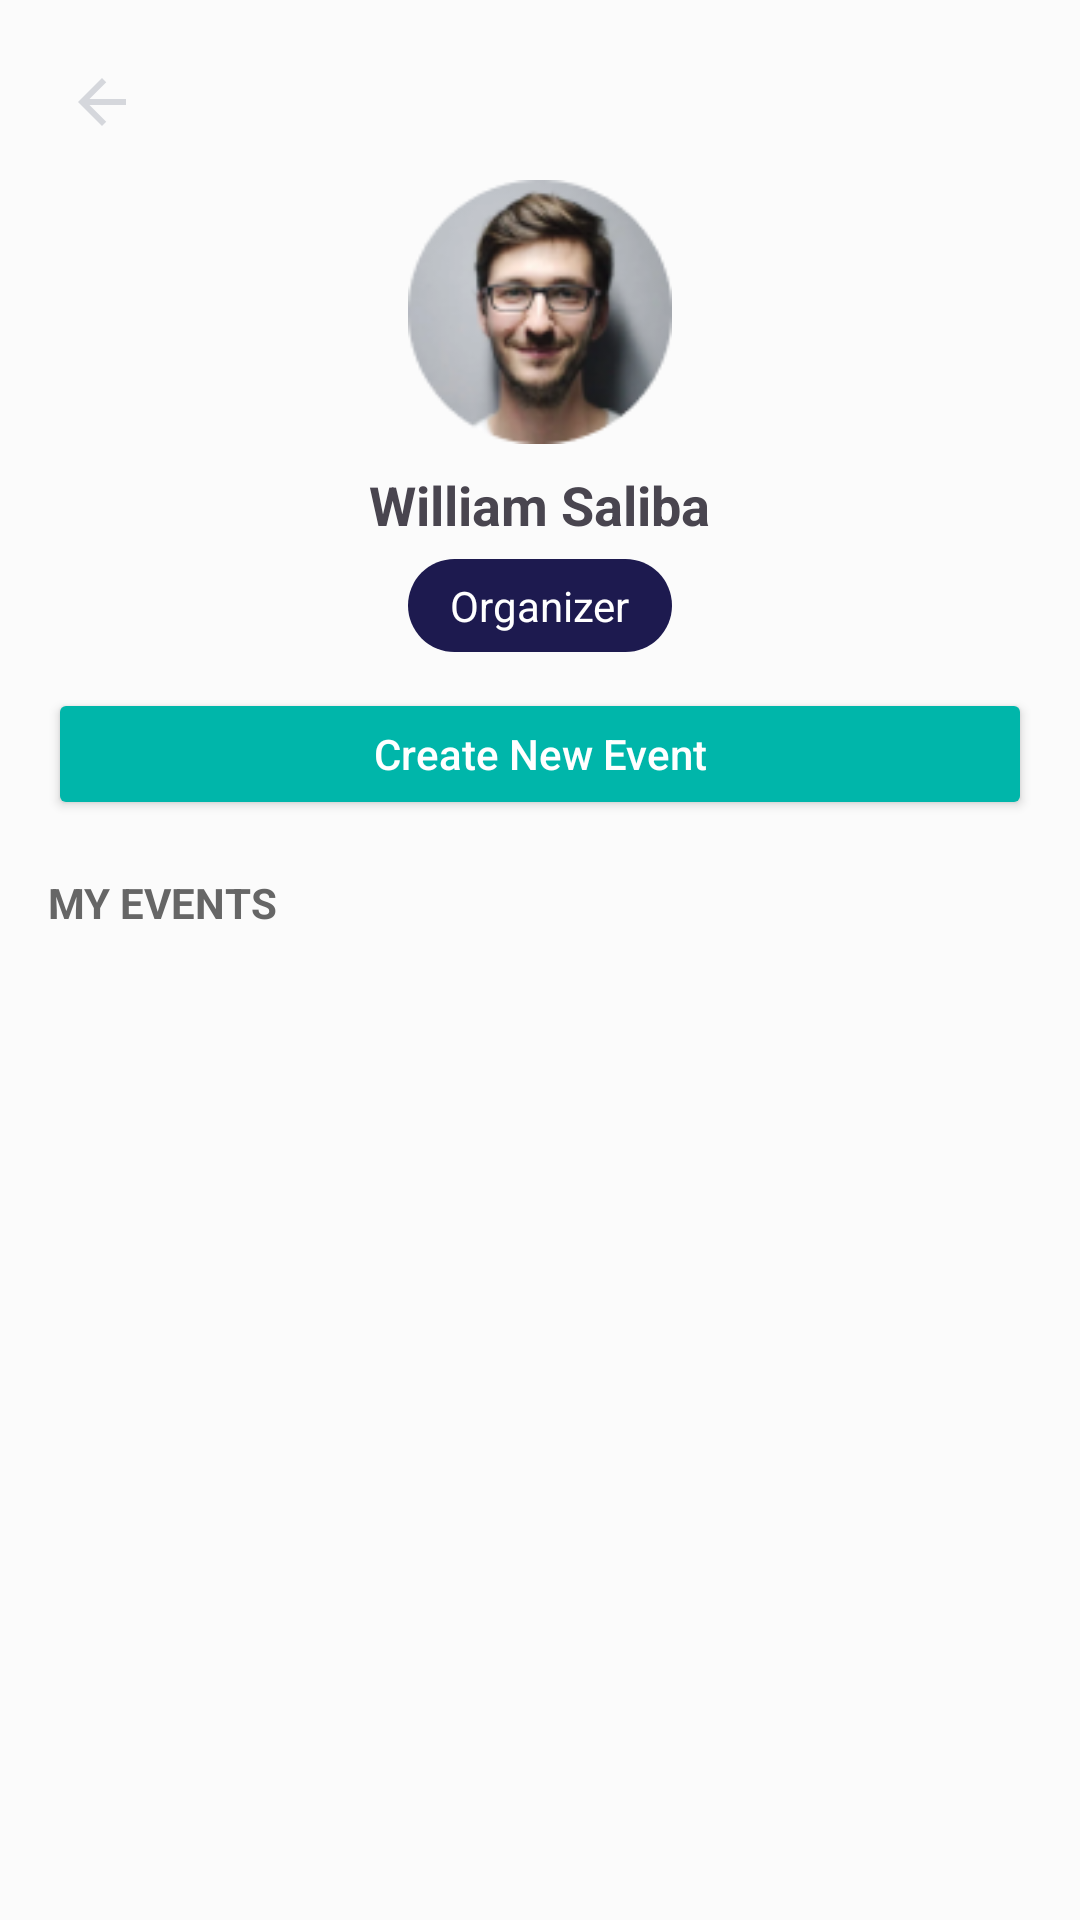

Screen size 1080px×1920px. Icon name, then its center in pixels as point (x, y):
Back: point (102, 102)
